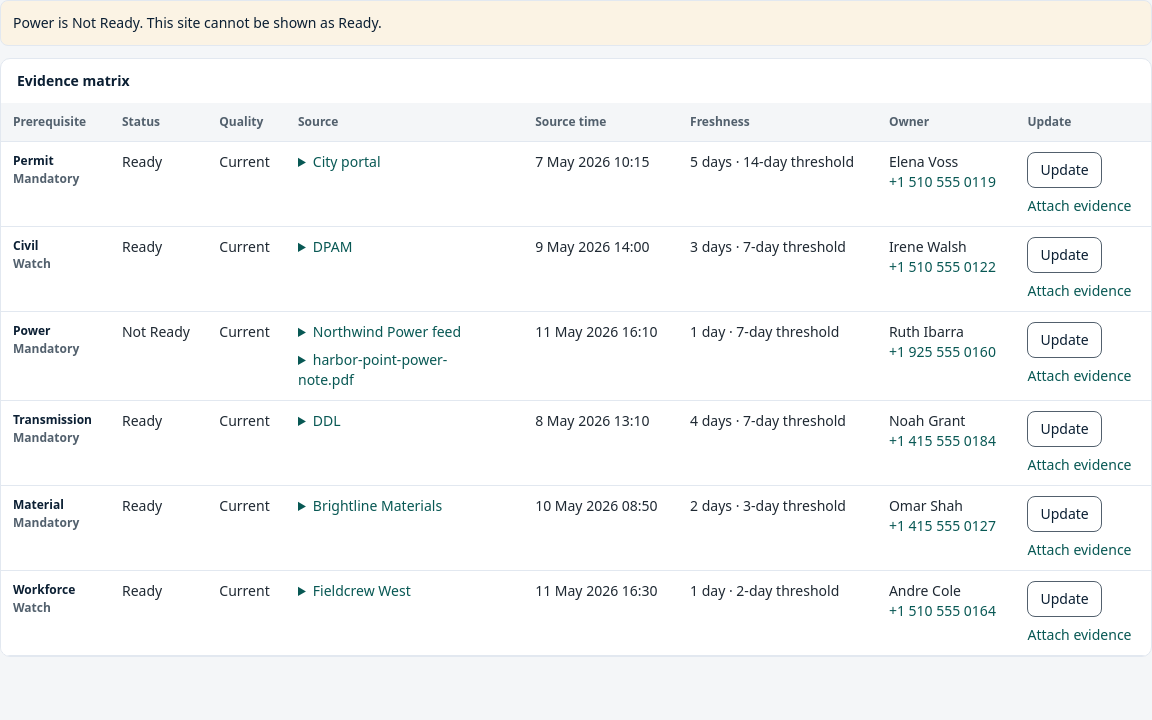
Test: discards unsaved drawer changes when cancelled and restores the invoking control
The width and height of the screenshot is (1152, 720).
Click the button with aria-label "Update Power": (1065, 340) [1028,322,1102,358]
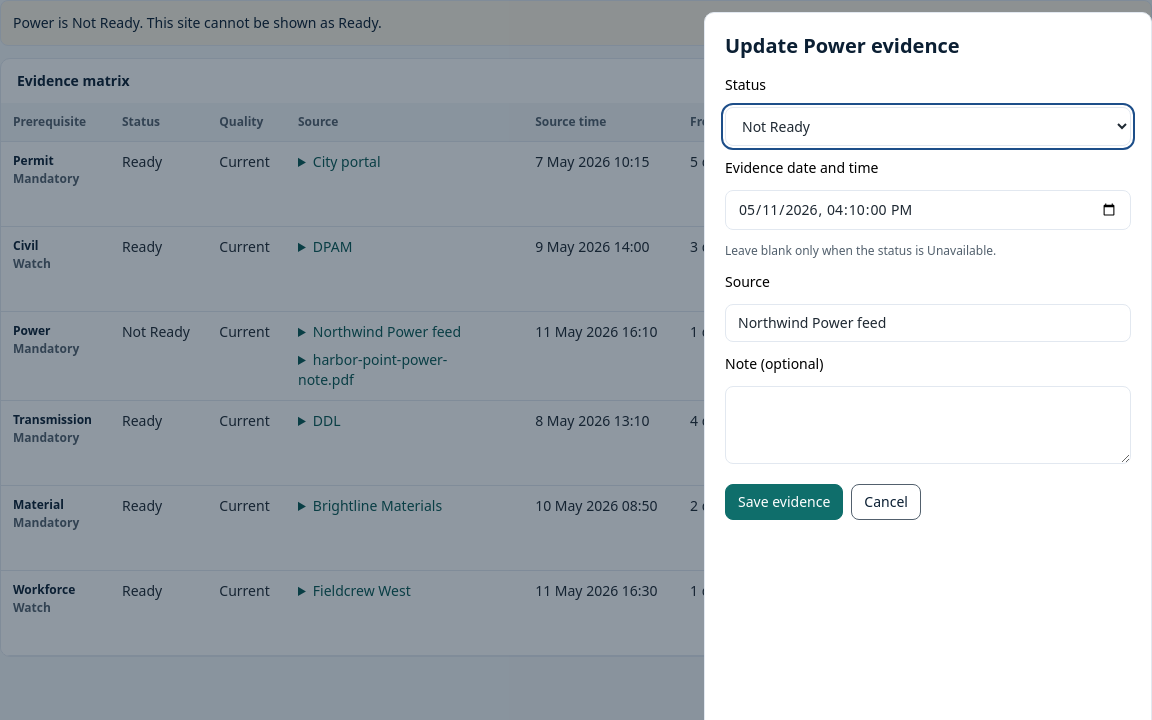
Select "Ready" in the dropdown labelled "Status": (928, 126) [725,107,1131,146]
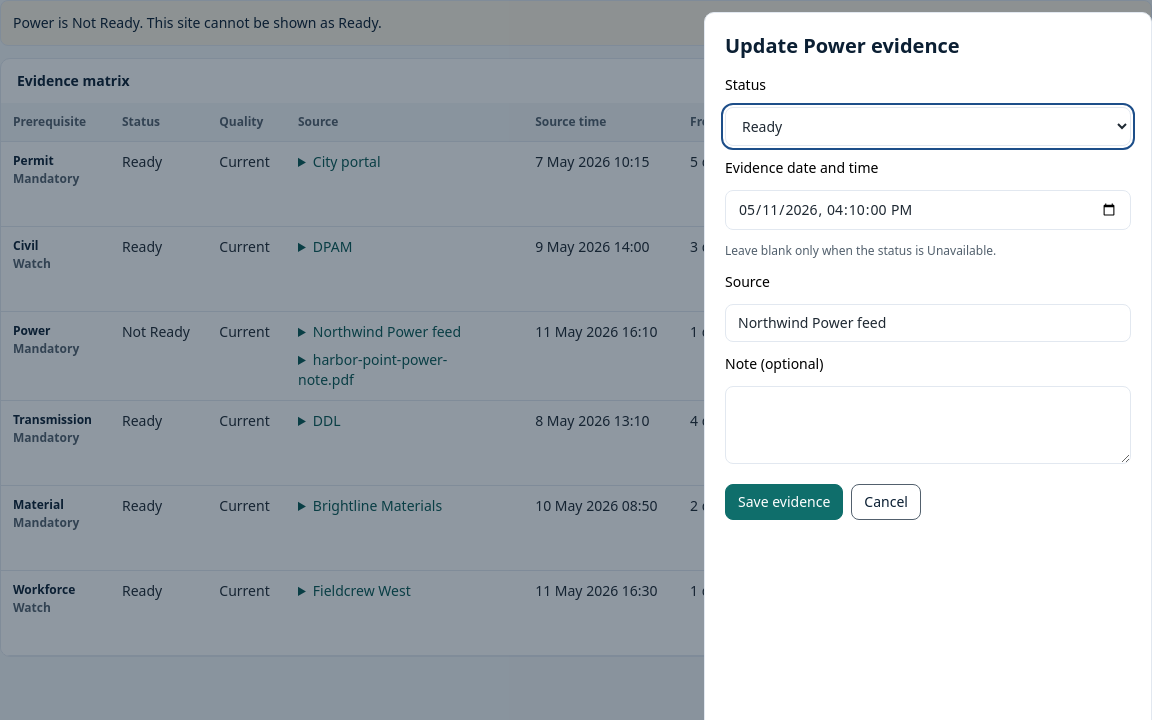
Click the button "Cancel": (886, 502) [851,484,921,520]
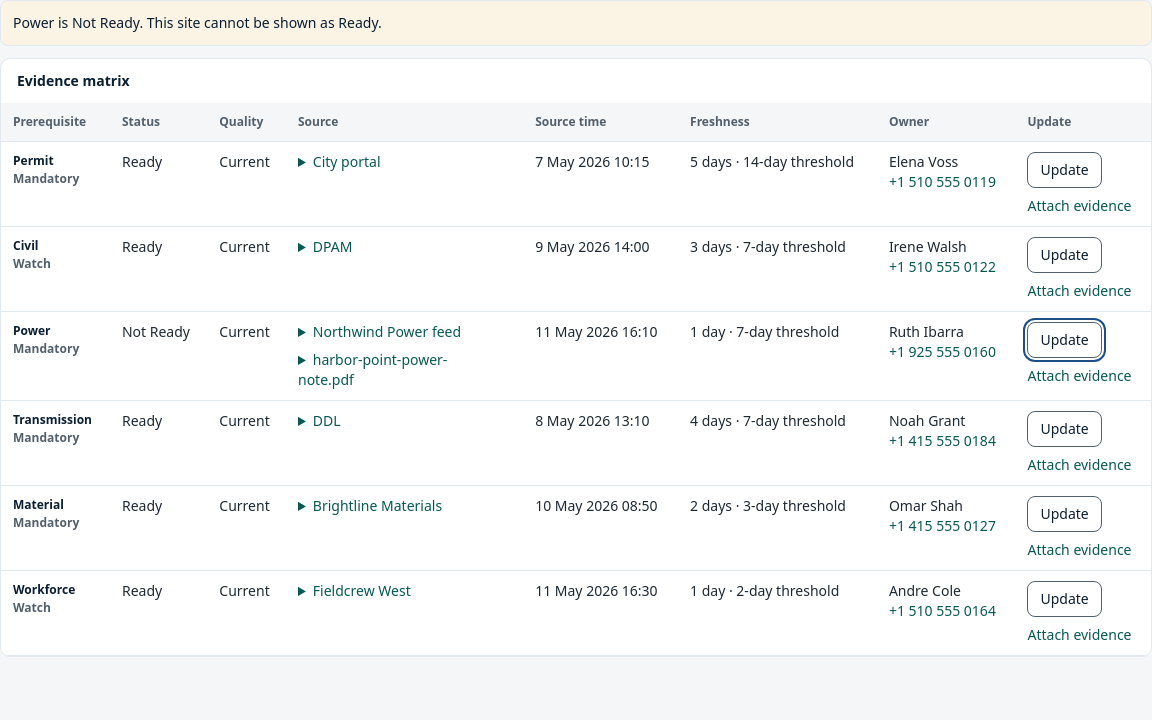
Click the button with aria-label "Update Power": (1065, 340) [1028,322,1102,358]
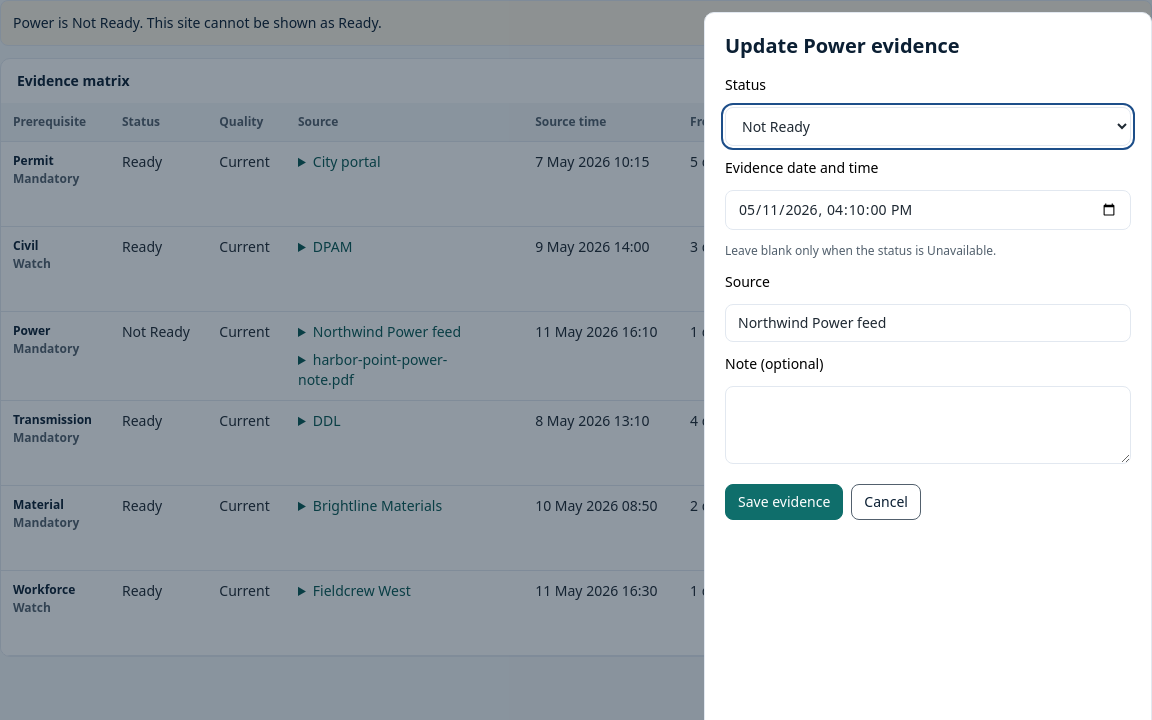
Now the dropdown labelled "Status" shows "Not Ready", box [725,107,1131,146]
